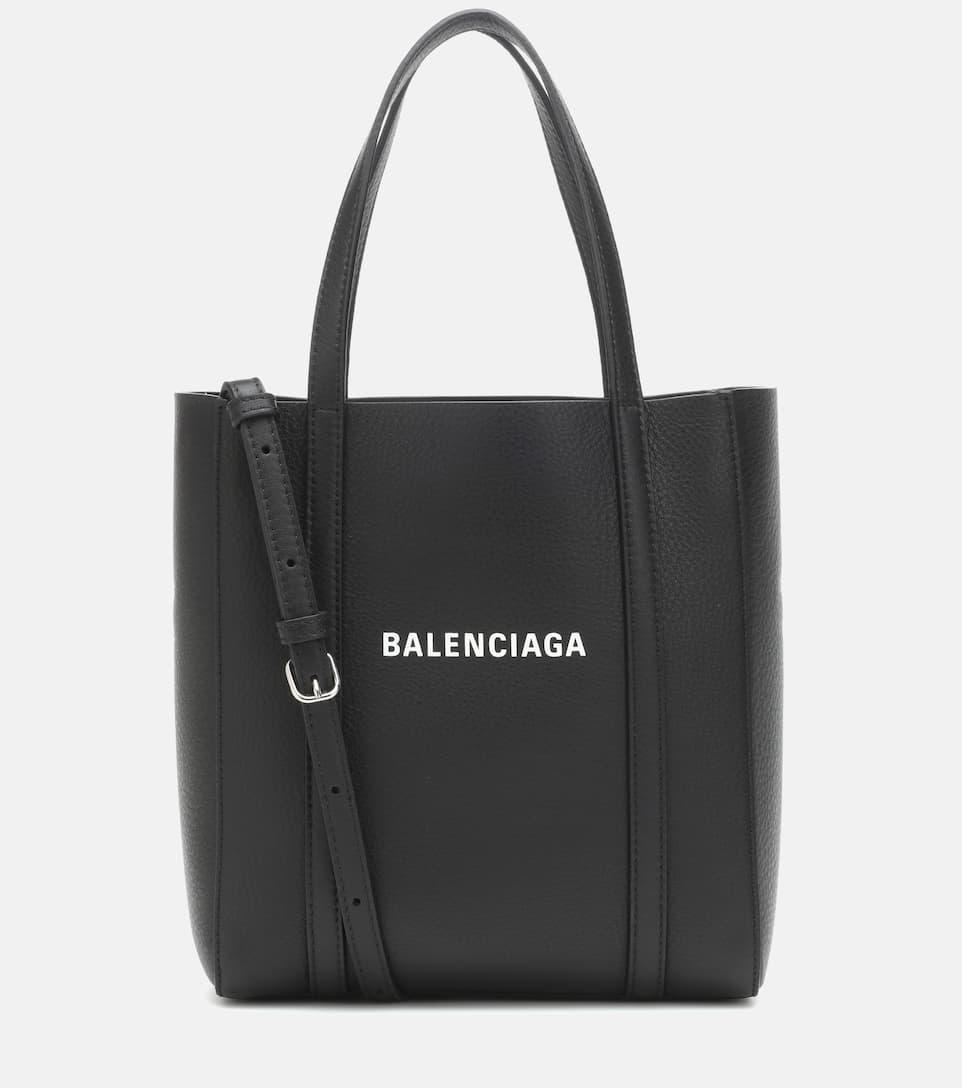BALENCIAGA: (383, 631, 586, 658)
